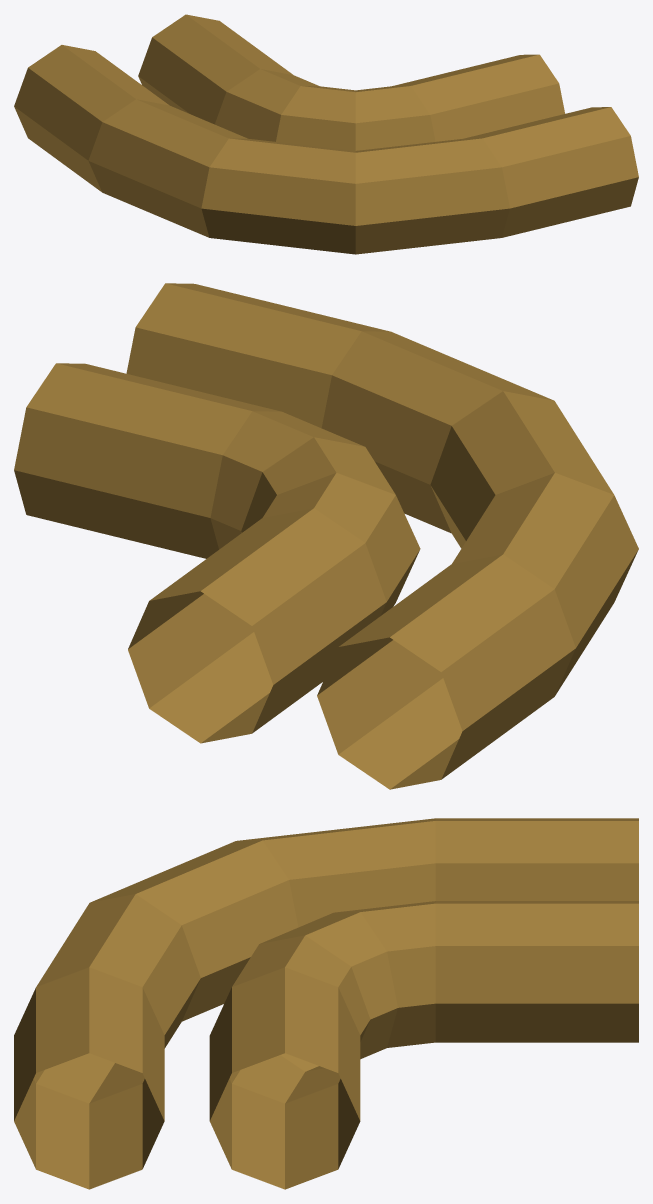
The model's file is SM_Props_Industrial_Pipe_Double_Corner_02.fbx.
3 views of the same model, one above another, from view 1: azimuth 30°, elevation 25°; view 2: azimuth 150°, elevation 25°; view 3: azimuth 270°, elevation 25° (orthographic). The views are drawn at different scales.
Parts seen in each view (by area): view 1: SM_Props_Industrial_Pipe_Double_Corner_02; view 2: SM_Props_Industrial_Pipe_Double_Corner_02; view 3: SM_Props_Industrial_Pipe_Double_Corner_02.
Boxes of the visible parts, left/top/right/bottom form: SM_Props_Industrial_Pipe_Double_Corner_02: left=14, top=14, right=638, bottom=254; SM_Props_Industrial_Pipe_Double_Corner_02: left=14, top=283, right=638, bottom=789; SM_Props_Industrial_Pipe_Double_Corner_02: left=14, top=818, right=638, bottom=1189.
Size of the model in its own units: 415 by 100 by 415.
